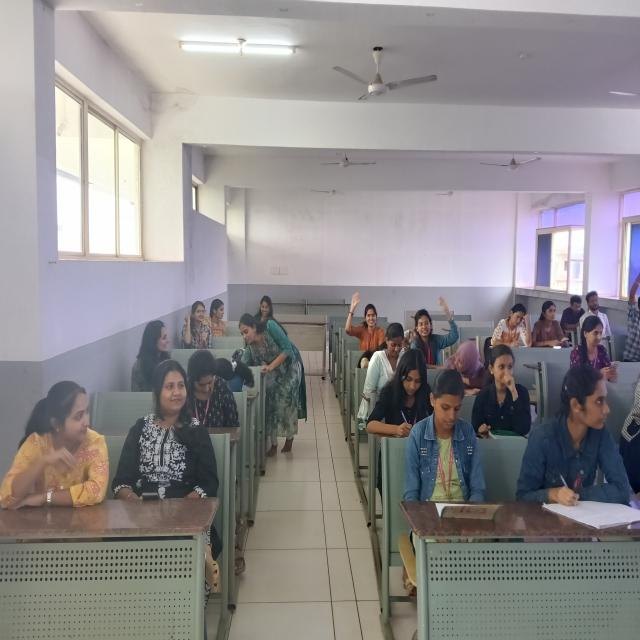Hand Rising: (408, 291, 456, 373), (344, 288, 386, 356)
Using Phone: (109, 353, 212, 507), (404, 361, 486, 500), (179, 342, 240, 428), (532, 298, 574, 355)
Writing: (515, 353, 630, 523), (363, 344, 427, 440), (488, 300, 536, 353)
